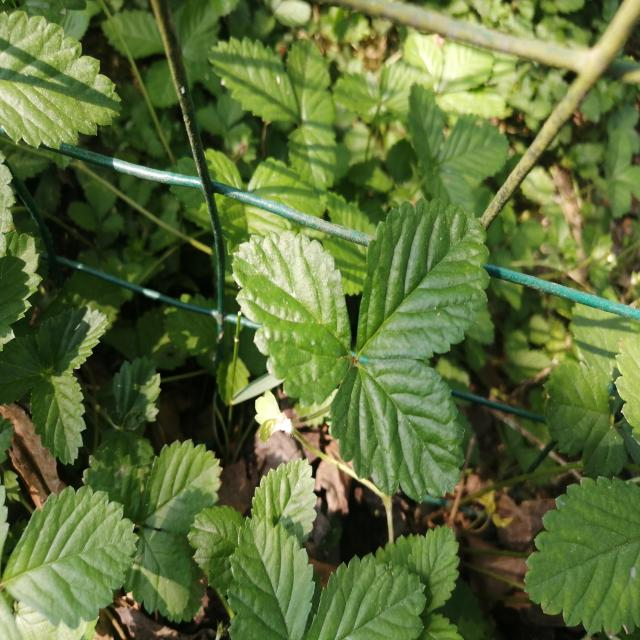Mock_strawberry: (236, 200, 487, 506)
